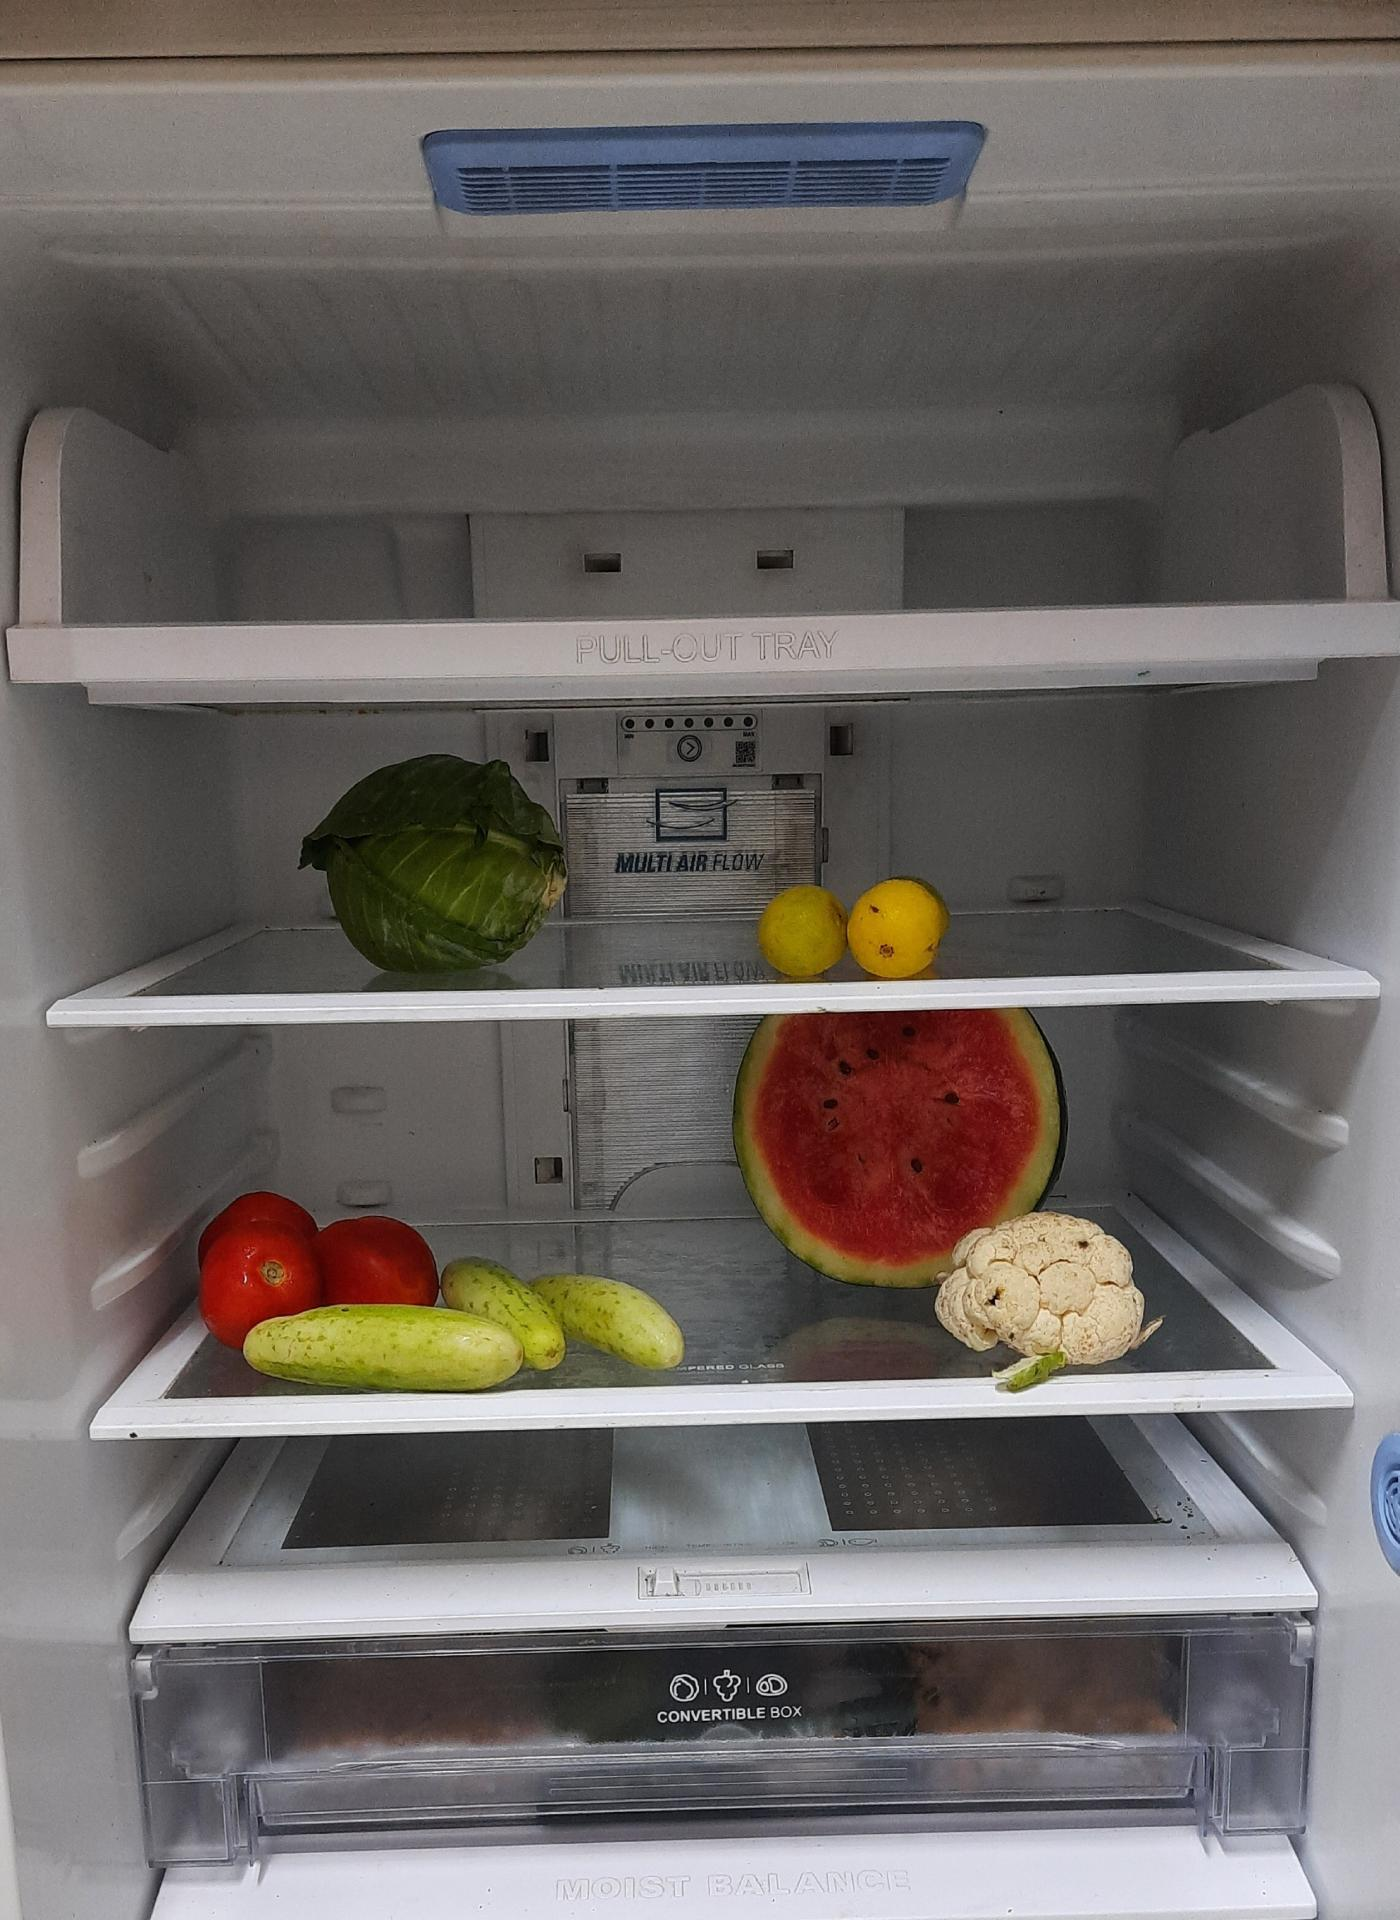cabbage: (289, 735, 578, 978)
cauliflower: (944, 1210, 1157, 1357)
cucumber: (450, 1243, 690, 1376), (236, 1307, 552, 1392)
lemon: (753, 874, 947, 973)
tomato: (203, 1191, 444, 1340)
watermelon: (732, 1002, 1068, 1282)
